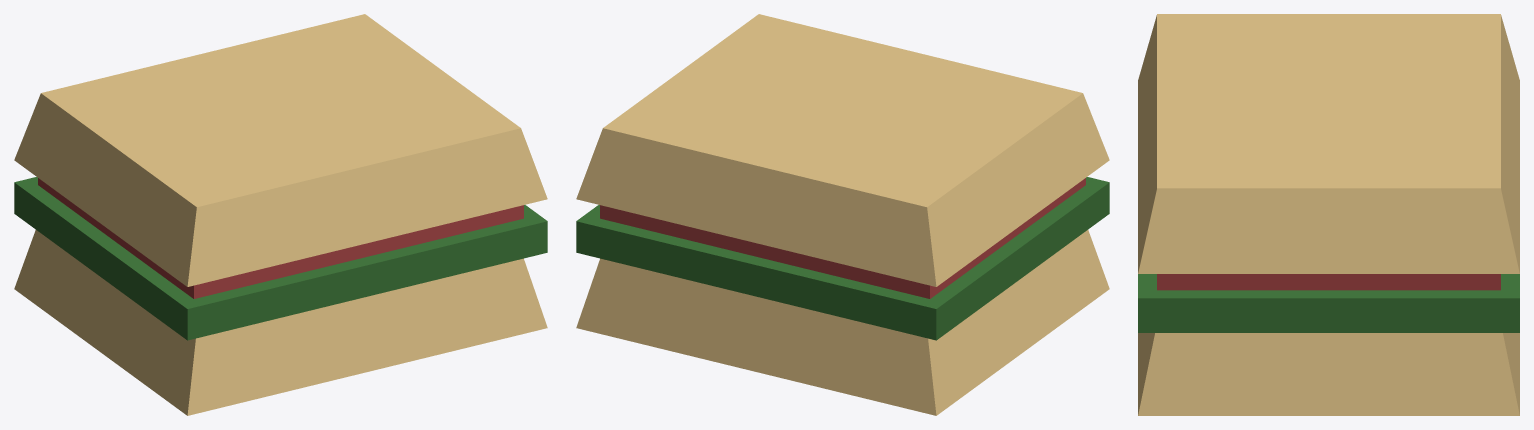
File: FD_Sandwich_01.glb
3 views of the same model, side by side, from view 1: azimuth 30°, elevation 25°; view 2: azimuth 150°, elevation 25°; view 3: azimuth 270°, elevation 25° (orthographic). The views are drawn at different scales.
Visible parts, largest first — view 1: FD_Sandwich_01; view 2: FD_Sandwich_01; view 3: FD_Sandwich_01.
Part boxes in pixels (x1,y1,x2,y2): FD_Sandwich_01: (14, 14, 547, 415); FD_Sandwich_01: (576, 14, 1109, 415); FD_Sandwich_01: (1138, 14, 1519, 415).
Bounding box in the file's own units: 0.12 × 0.063 × 0.1.
Materials: 1 (1 with a texture image).
